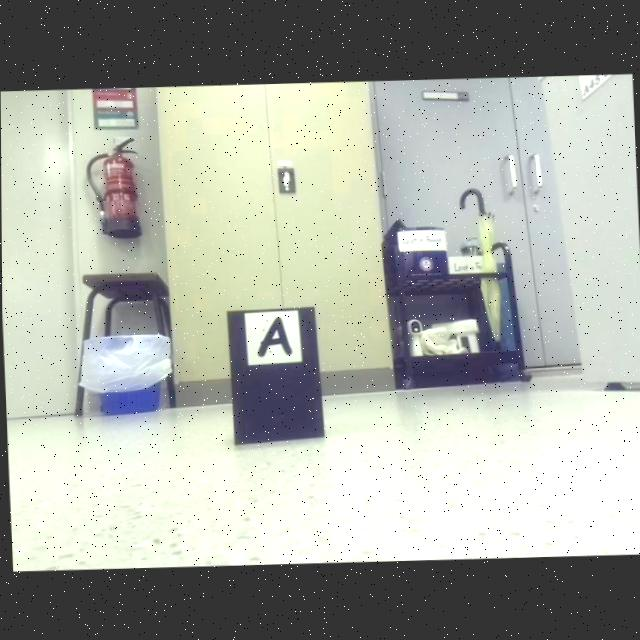A: (255, 315, 291, 358)
